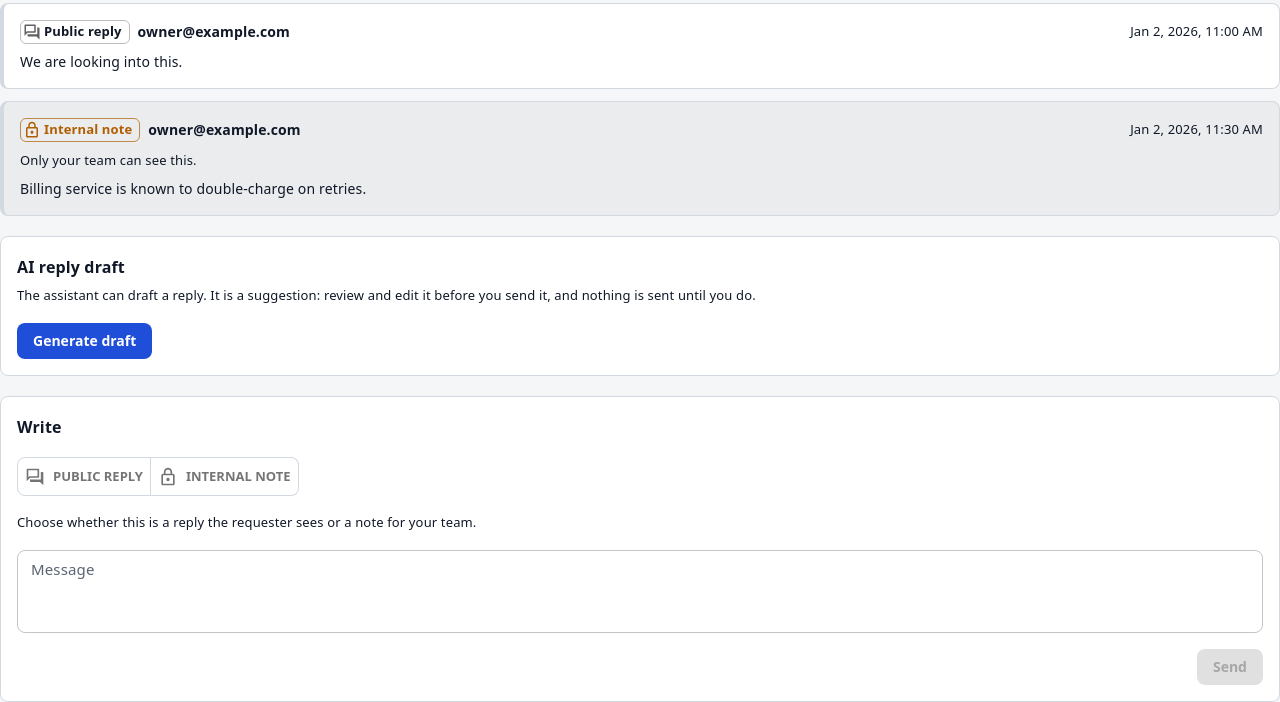
Scenario: TicketDetailPage › prompts to reload on a stale version and keeps unsent writing
(page scrolled)
Type "Draft I have not sent yet" into the text box labelled "Message" at (640, 591), box [31,558,1249,624]
(page scrolled)
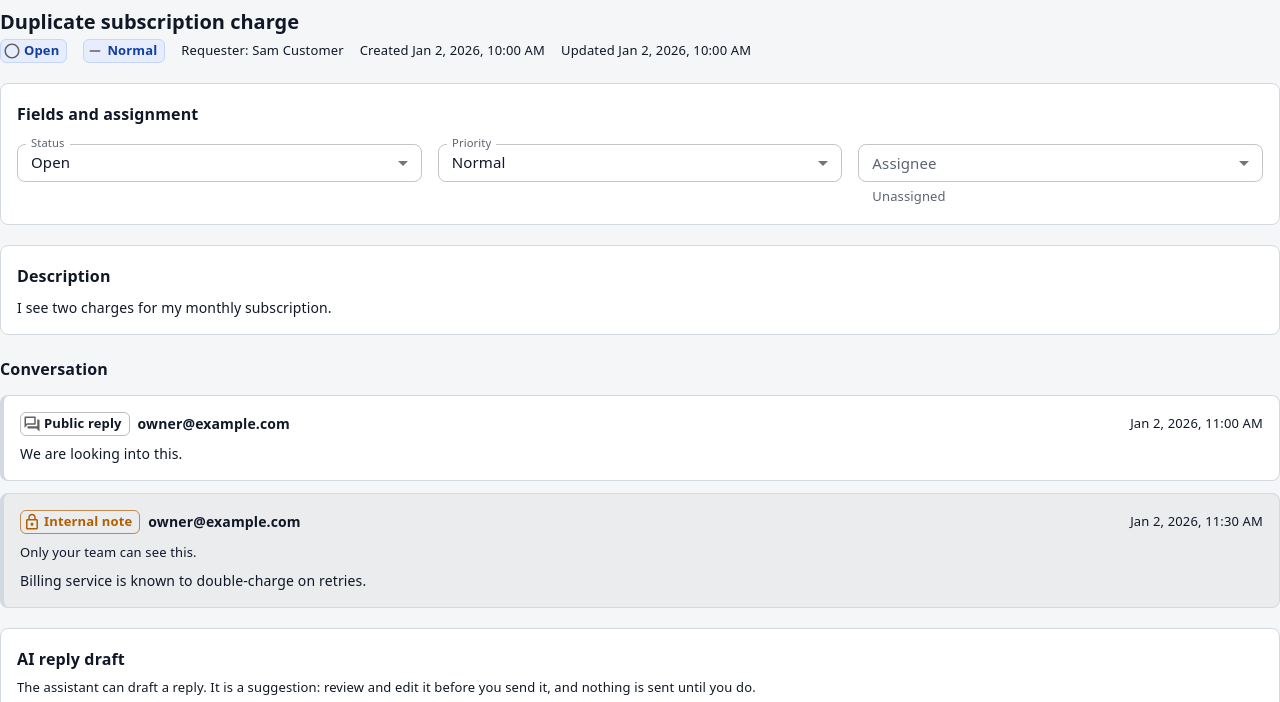
Click the dropdown named "Priority" at (479, 162), box [452,152,506,172]
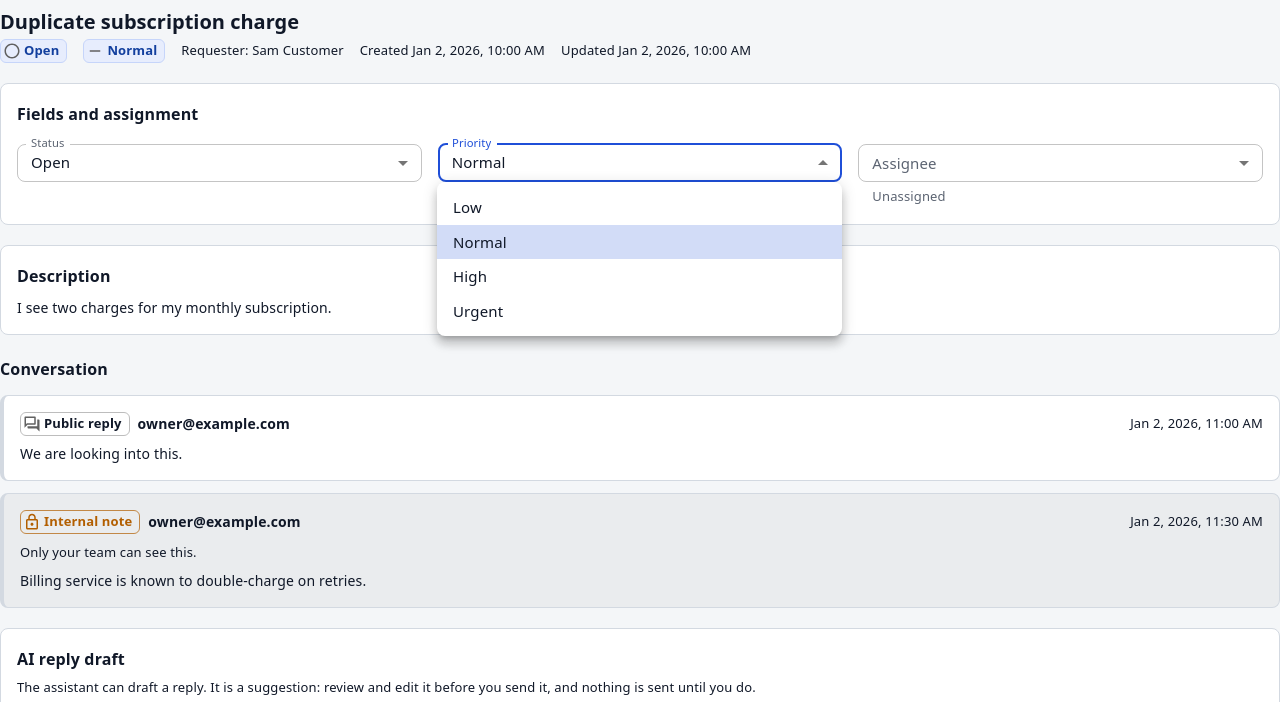
Click the option "Urgent" at (478, 310), box [453,300,503,320]
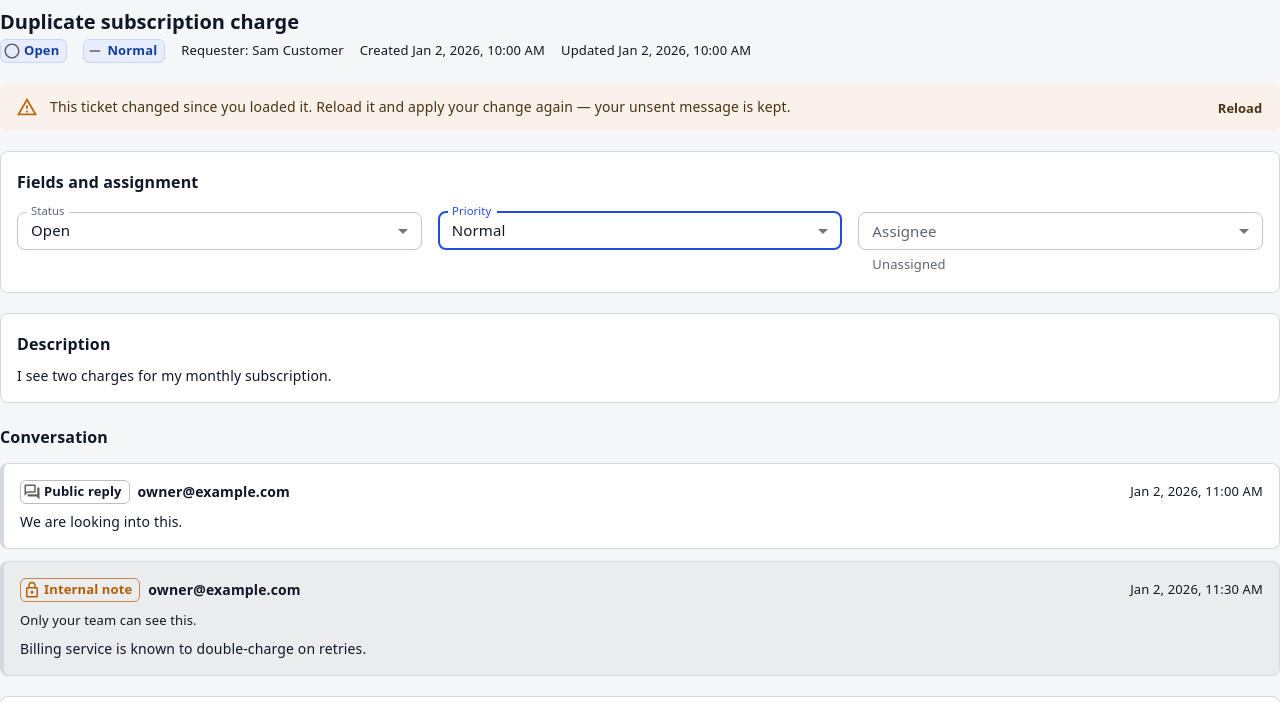
Expected: the text "changed since you loaded it" is shown, [50,97,791,116]
Expected: the button "Reload" is shown, [1208,93,1272,124]
